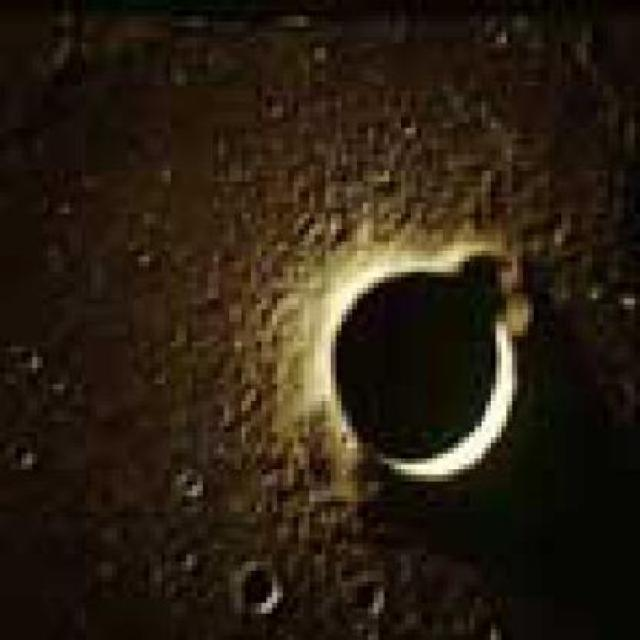crater: (324, 256, 516, 473)
